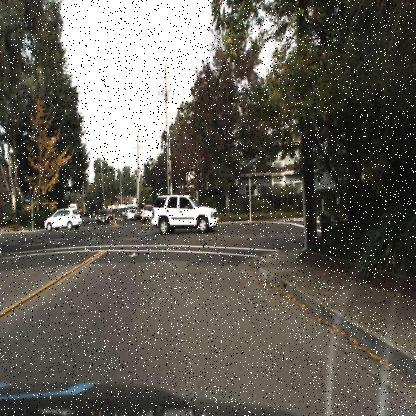car: (150, 190, 218, 236), (42, 206, 86, 232), (139, 204, 156, 226), (96, 207, 112, 225)
trafficLight-Red: (167, 167, 176, 190), (166, 172, 173, 190)
